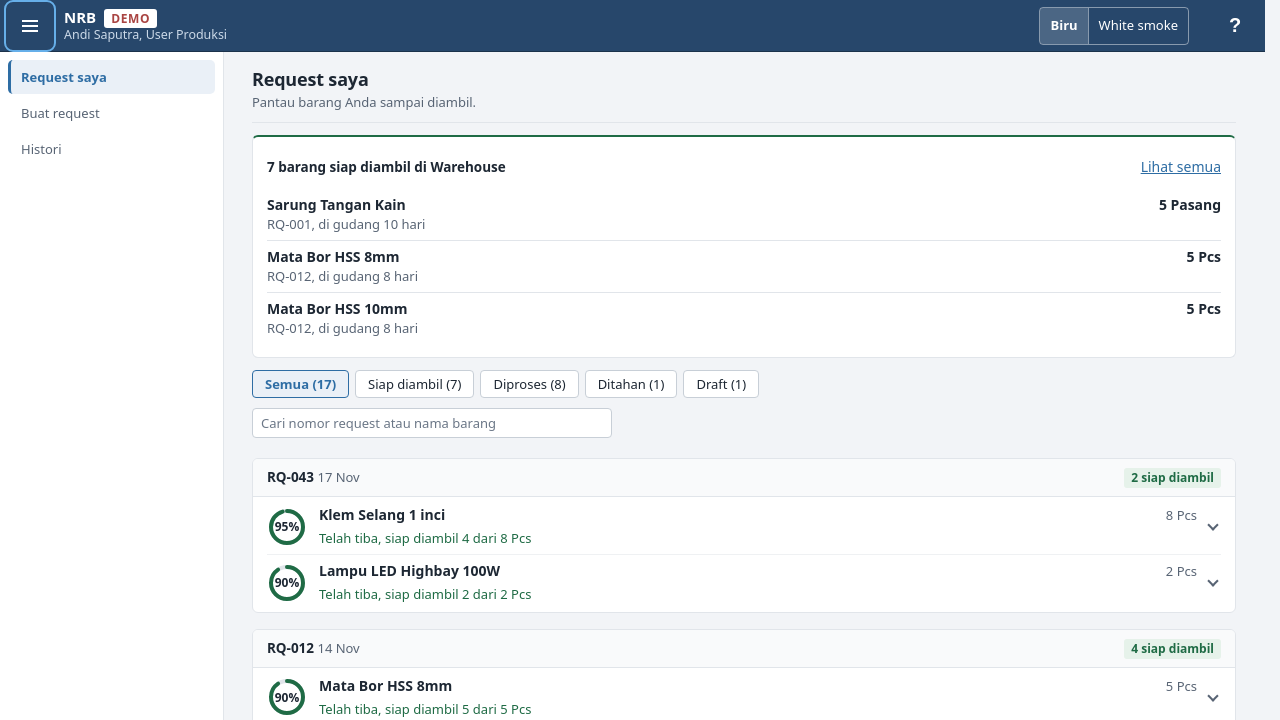
Test: dialog: fokus dan semantik › drawer menu: fokus masuk ke dialog, Esc menutup, fokus kembali ke tombol menu
This screenshot has width=1280, height=720.
Expected: the button "Request saya" is shown, [8,60,215,94]
Click the button named "Buka menu" at point(30, 26), box [8,4,52,48]
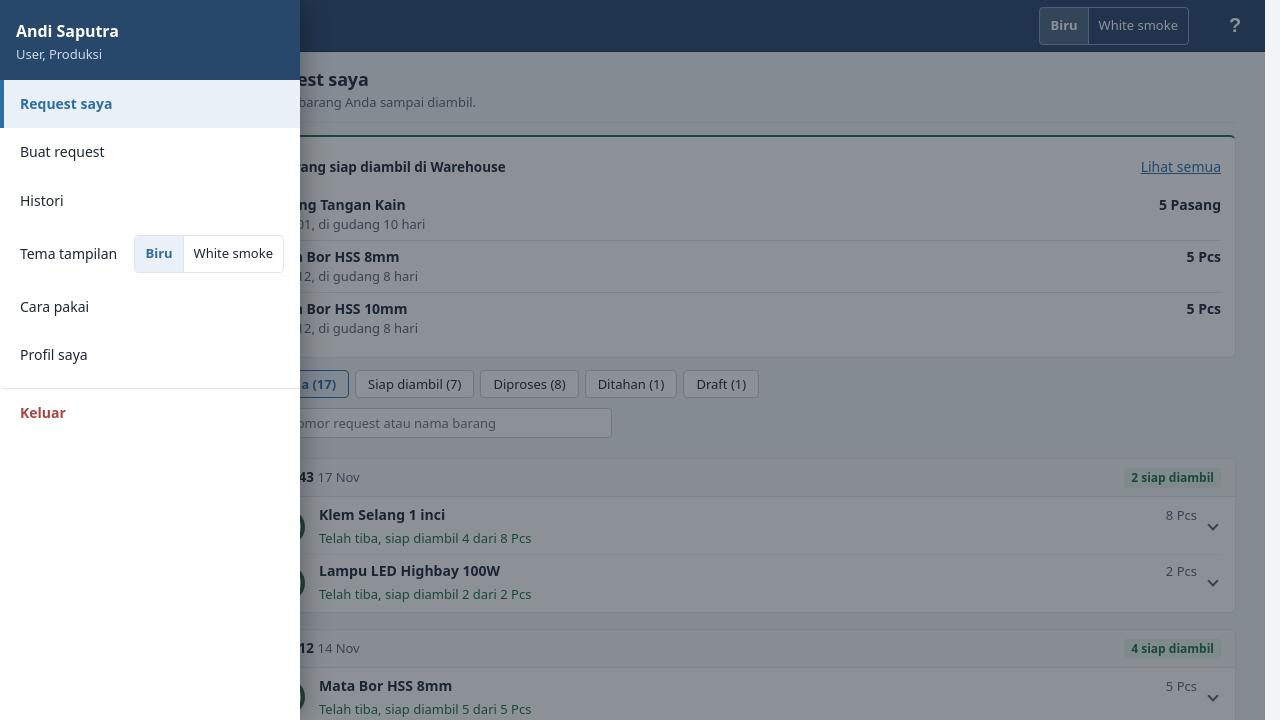
Press Escape
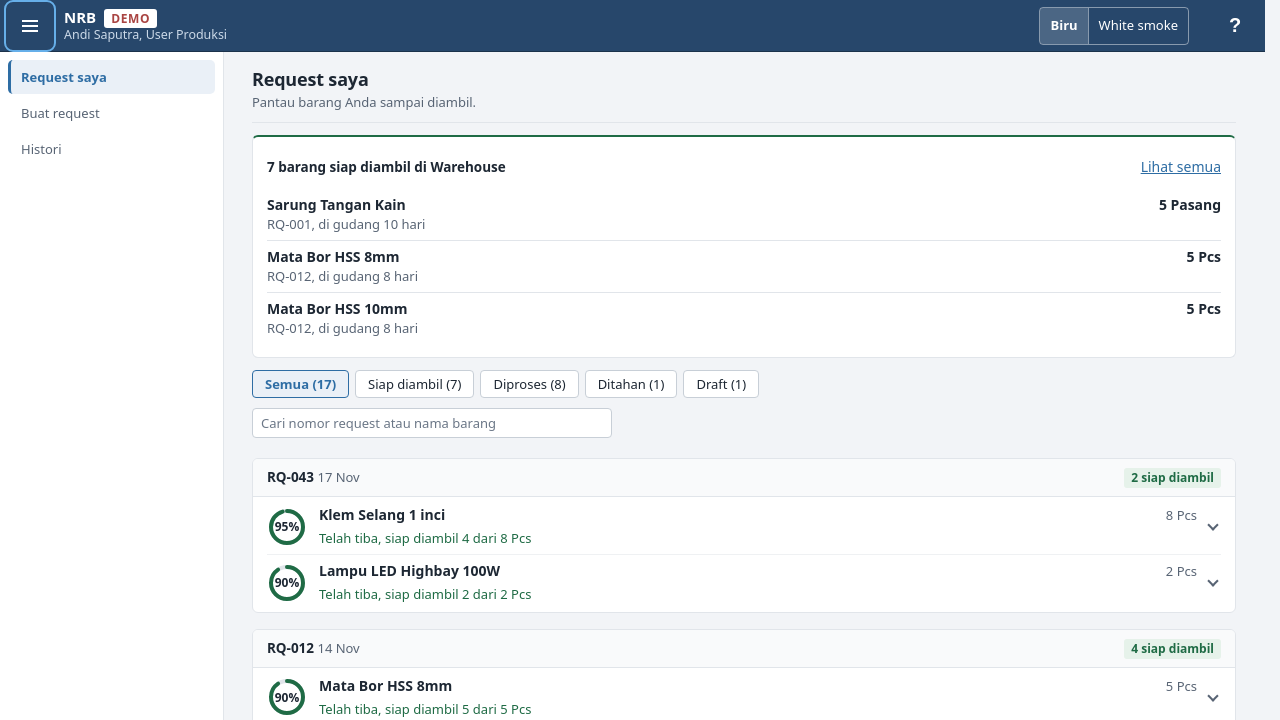
Expected: the dialog is gone
